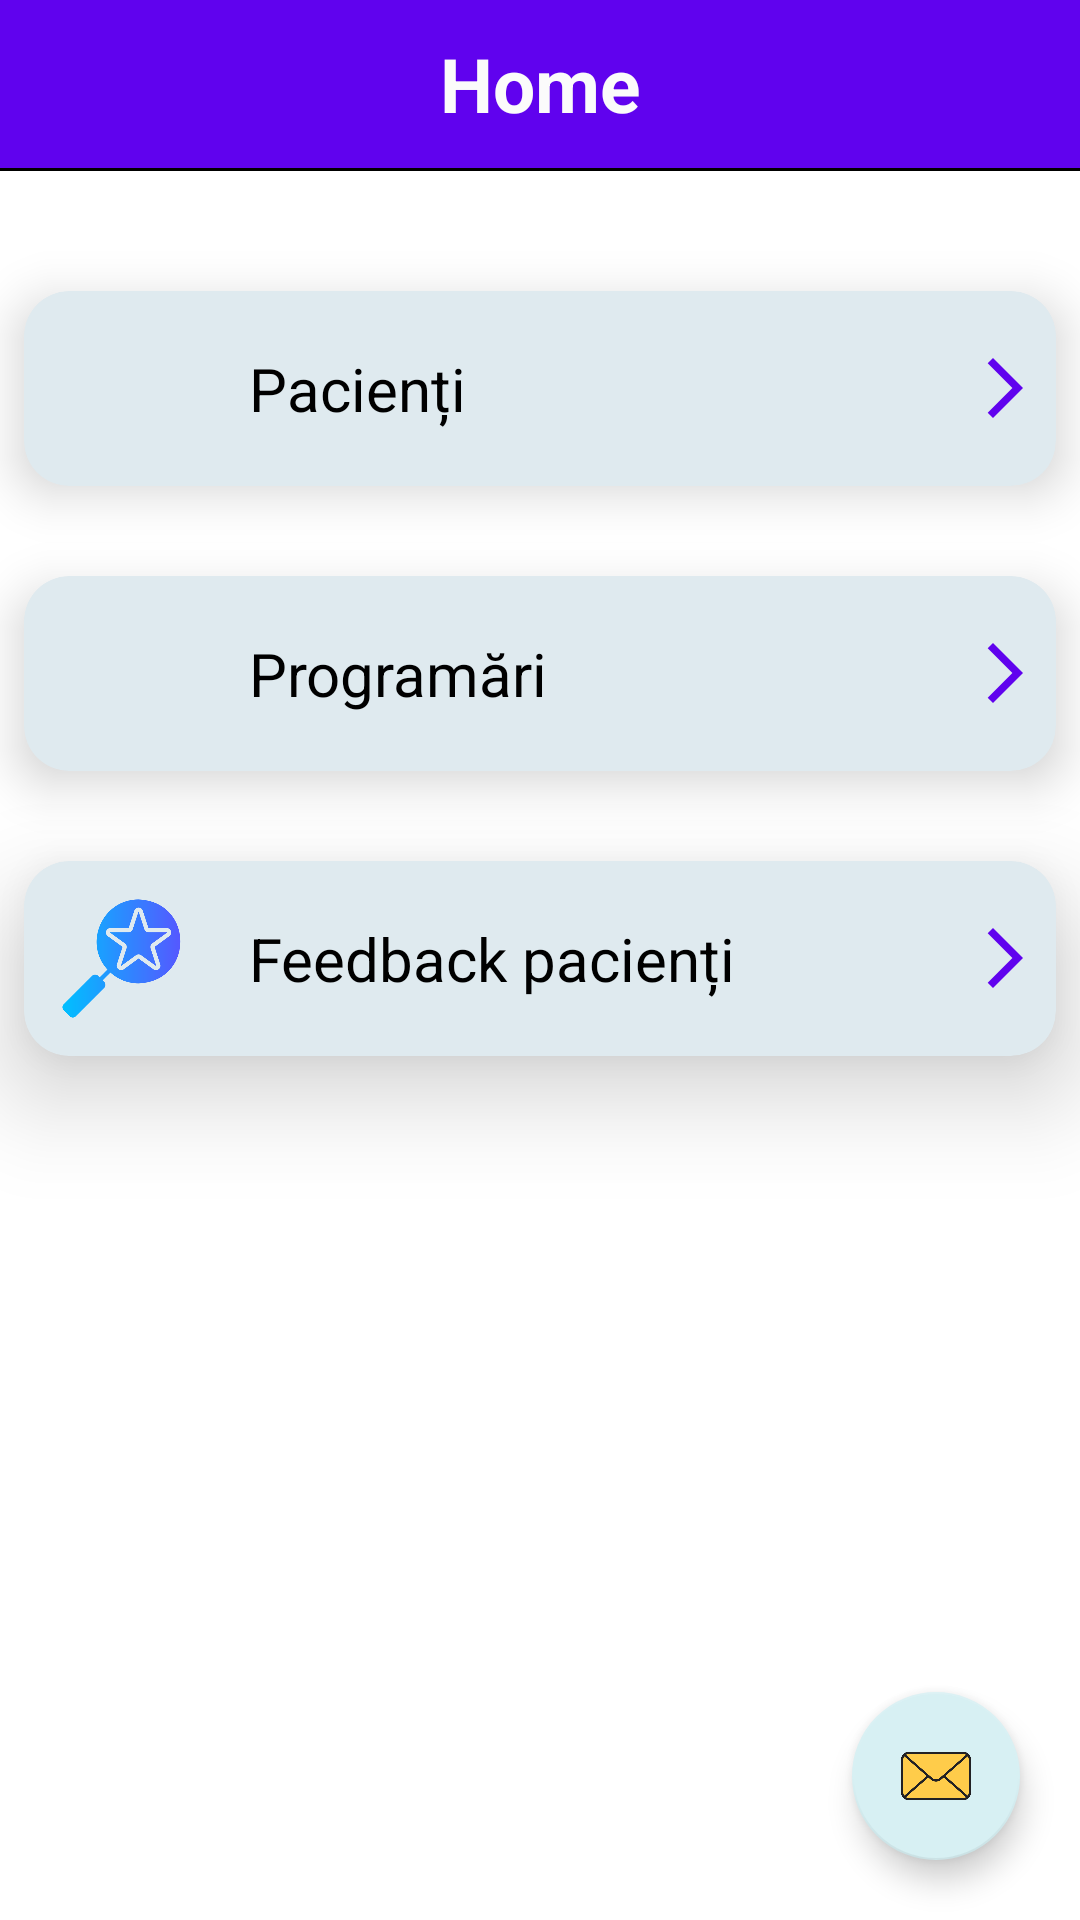

Where icons sit on this 1080 x 1920 app screen, as box=[x1, y1, x2, y2]:
arrow right: box=[988, 358, 1023, 418], box=[988, 643, 1023, 703], box=[988, 928, 1023, 988]
Chat: box=[852, 1692, 1020, 1860]
